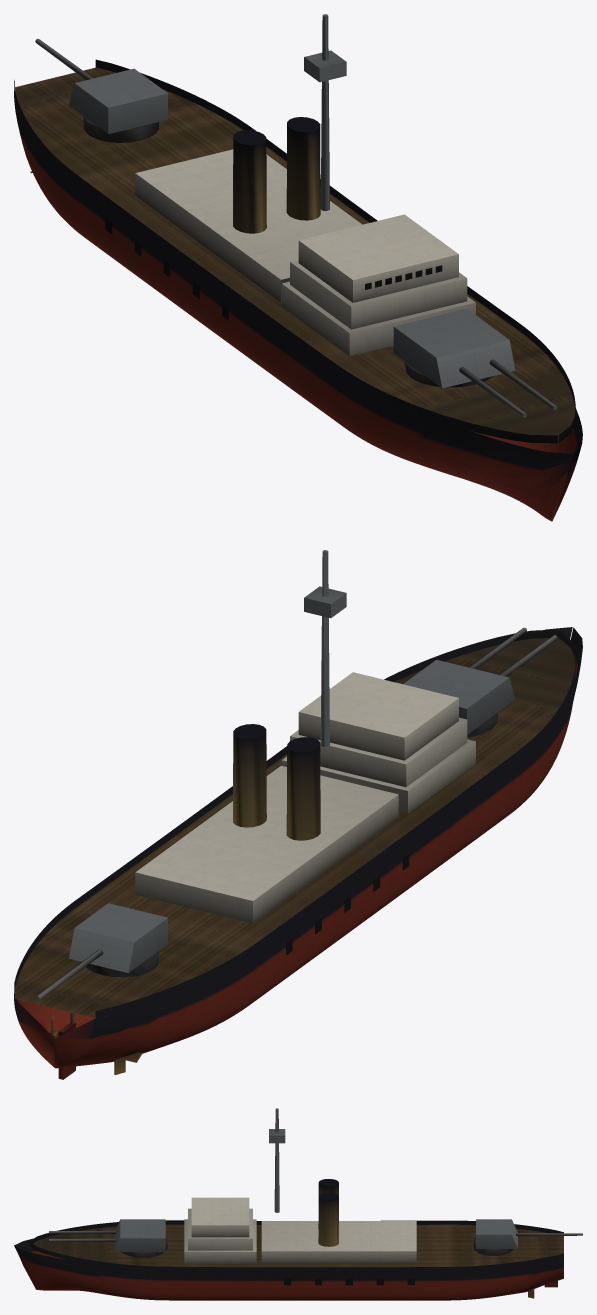
The model's file is model_built.glb.
3 views of the same model, one above another, from view 1: azimuth 30°, elevation 25°; view 2: azimuth 150°, elevation 25°; view 3: azimuth 270°, elevation 25° (orthographic). The views are drawn at different scales.
Parts seen in each view (by area): view 1: main; view 2: main; view 3: main.
Part boxes in pixels (<box>): main: <box>14,14,582,521</box>; main: <box>14,550,582,1079</box>; main: <box>14,1108,582,1300</box>.
Bounding box in the file's own units: 21.46 × 38.8 × 110.
Materials: 2 (2 with a texture image).
